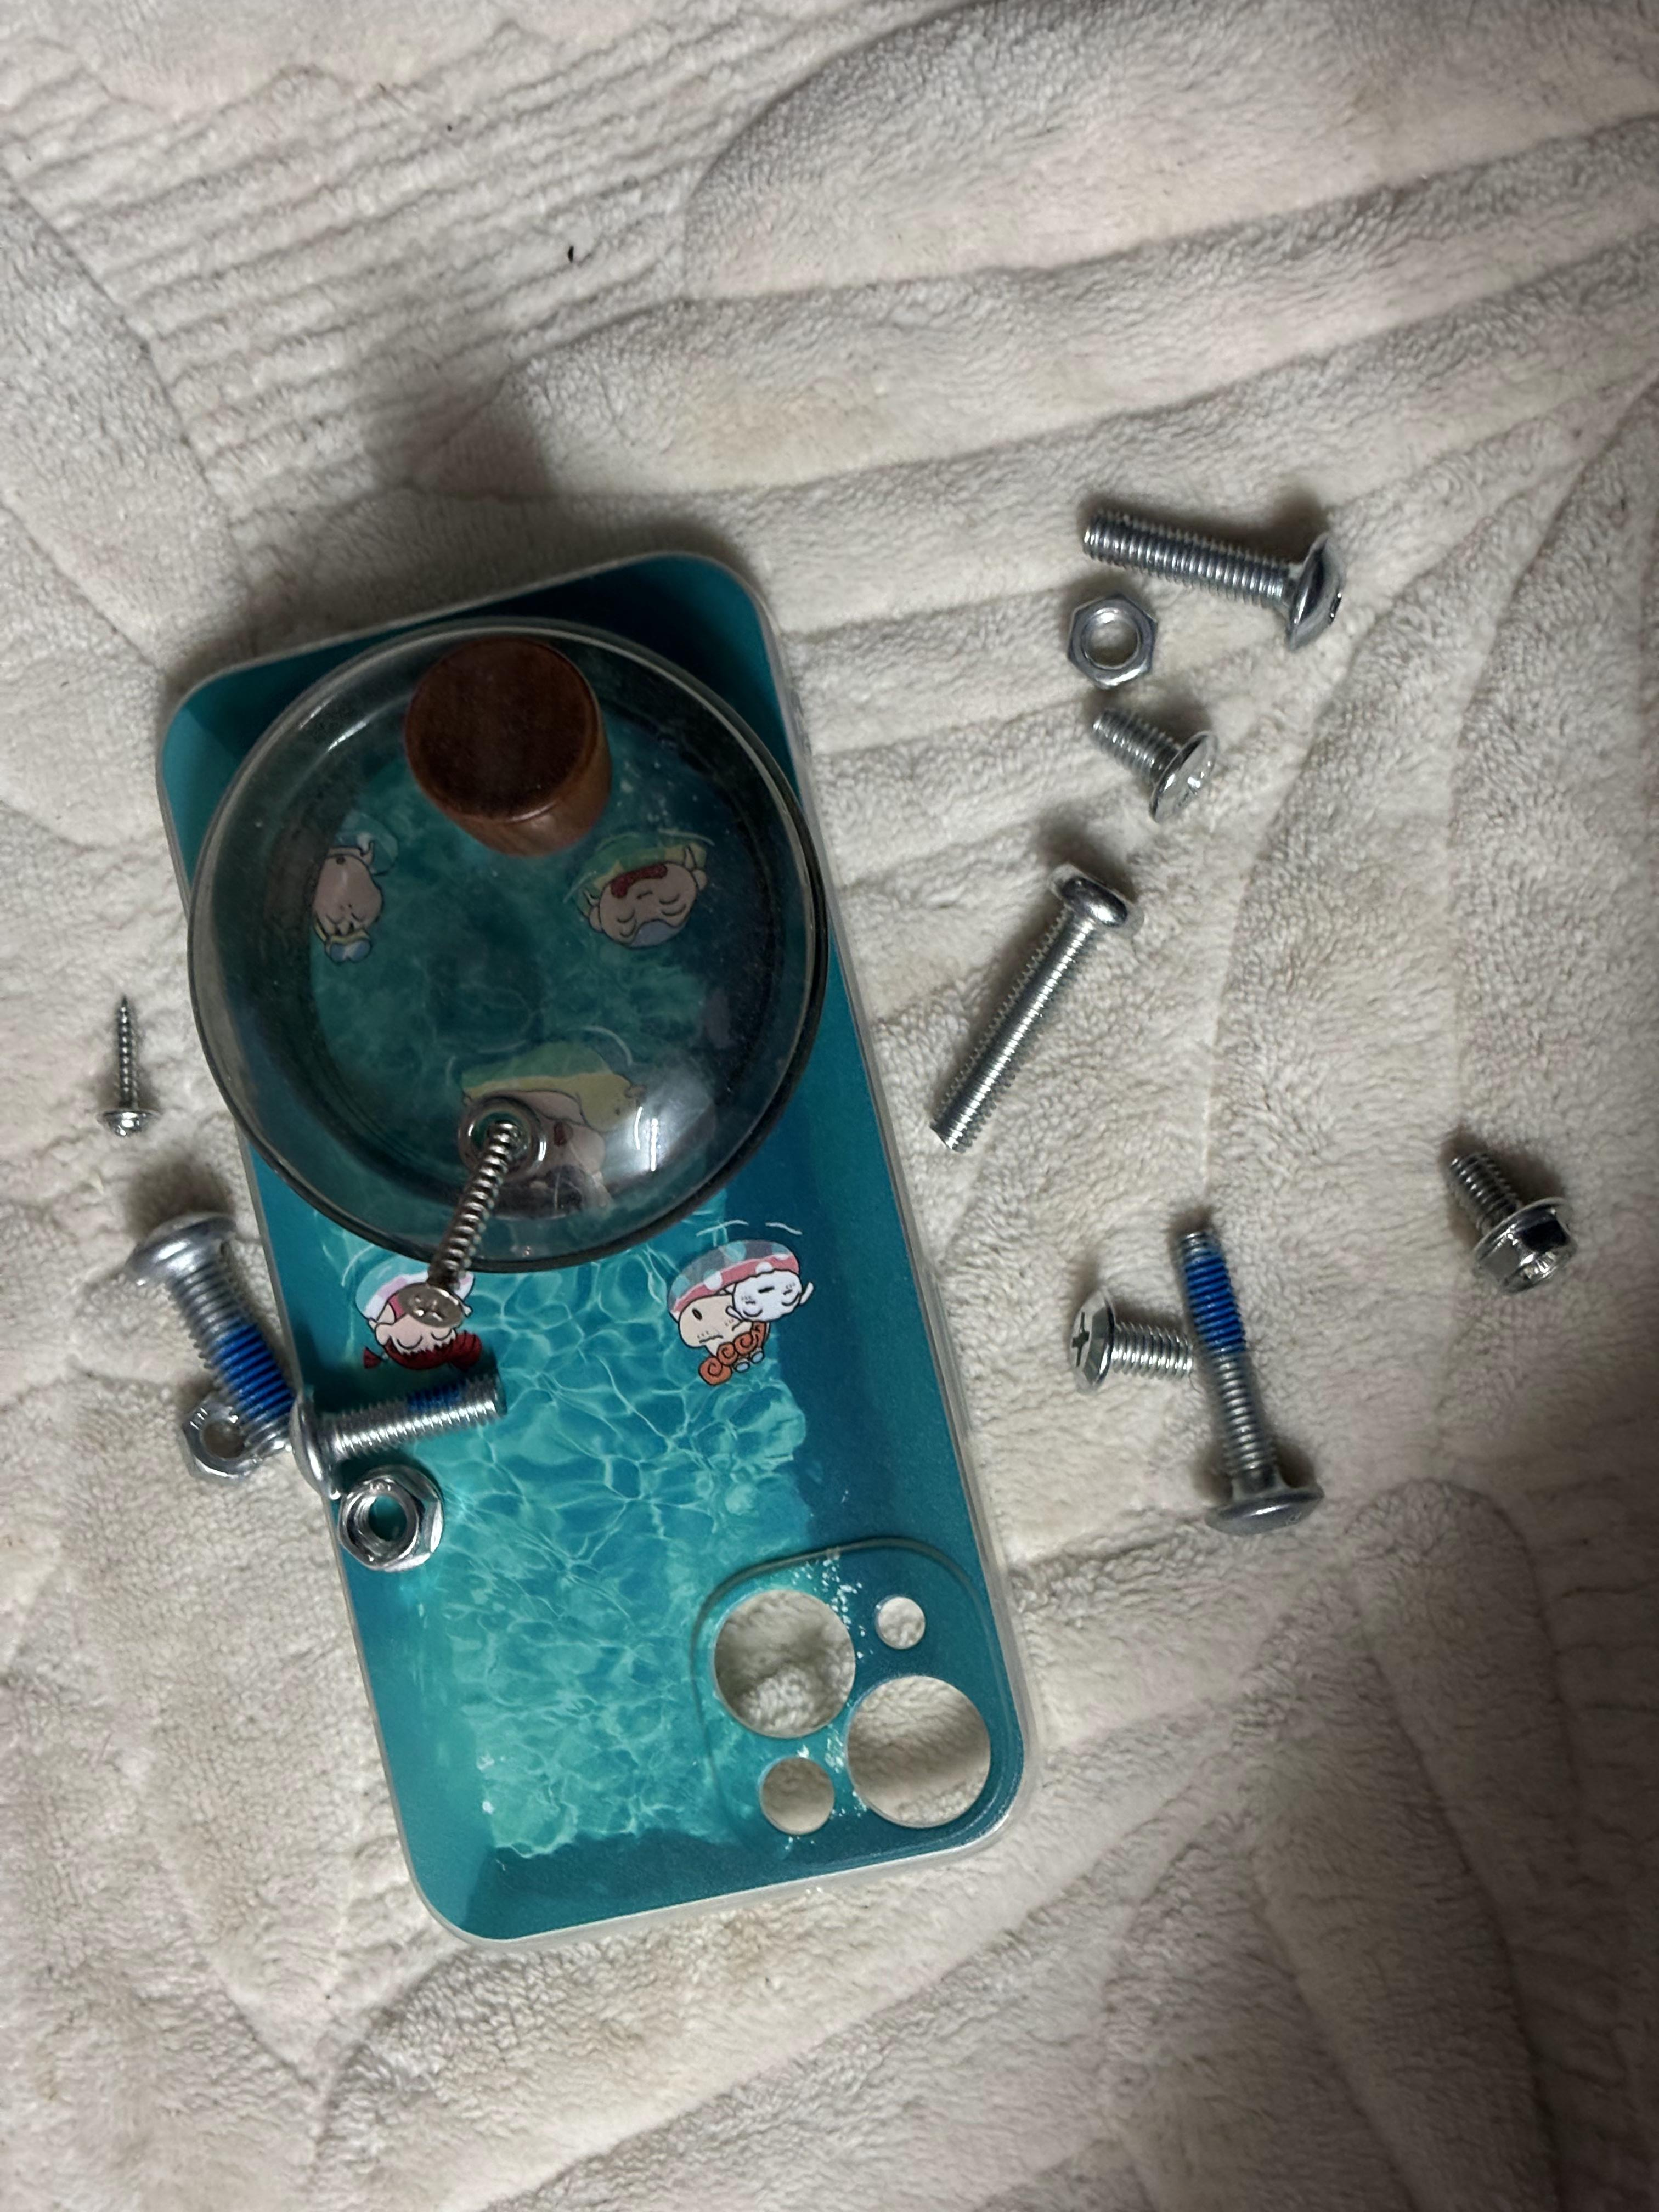Flange nut: (335, 1461, 448, 1575)
Hexagon nut: (173, 1388, 270, 1489), (1065, 589, 1159, 688)
Hexagon screw: (1443, 1148, 1581, 1296)
Round head screw: (927, 859, 1147, 1157), (1164, 1223, 1326, 1536), (131, 1209, 298, 1460), (1080, 502, 1347, 653), (288, 1364, 511, 1501), (394, 1120, 519, 1327), (1089, 702, 1222, 826), (1066, 1285, 1195, 1397), (92, 993, 162, 1137)
